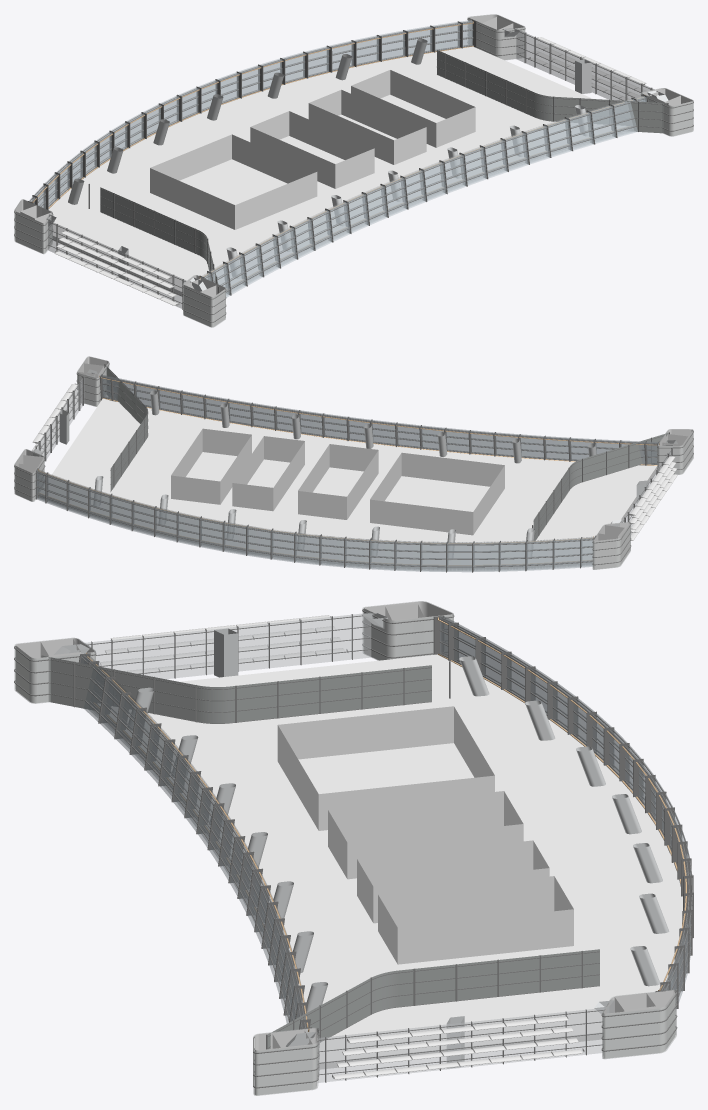
3 views of the same model, one above another, from view 1: azimuth 30°, elevation 25°; view 2: azimuth 150°, elevation 25°; view 3: azimuth 270°, elevation 25° (orthographic). The views are drawn at different scales.
Visible parts, largest first — view 1: floor.046; view 2: floor.046; view 3: floor.046.
Boxes of the visible parts, x1,y1,x2,y2 form: floor.046: [14, 14, 693, 327]; floor.046: [14, 356, 693, 572]; floor.046: [14, 601, 693, 1095].
Size of the model in its own units: 82.03 by 3.83 by 52.34.
14 materials, 1 textured.
